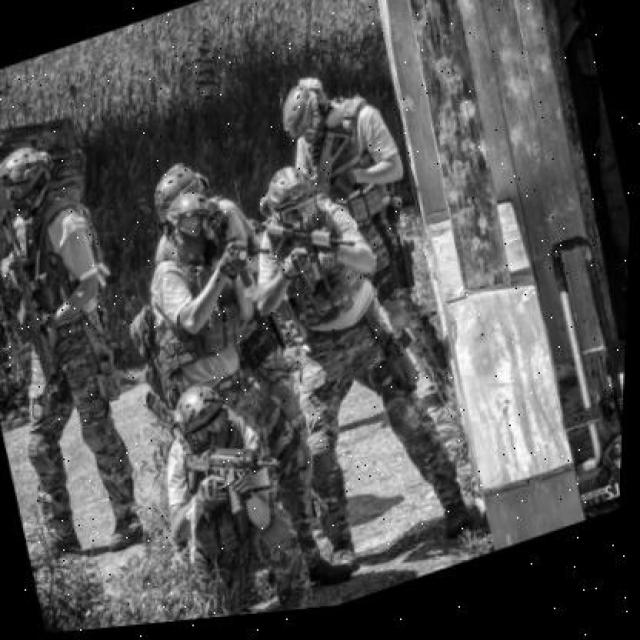weapon: (1, 215, 64, 394), (179, 446, 281, 520), (267, 223, 358, 286)
